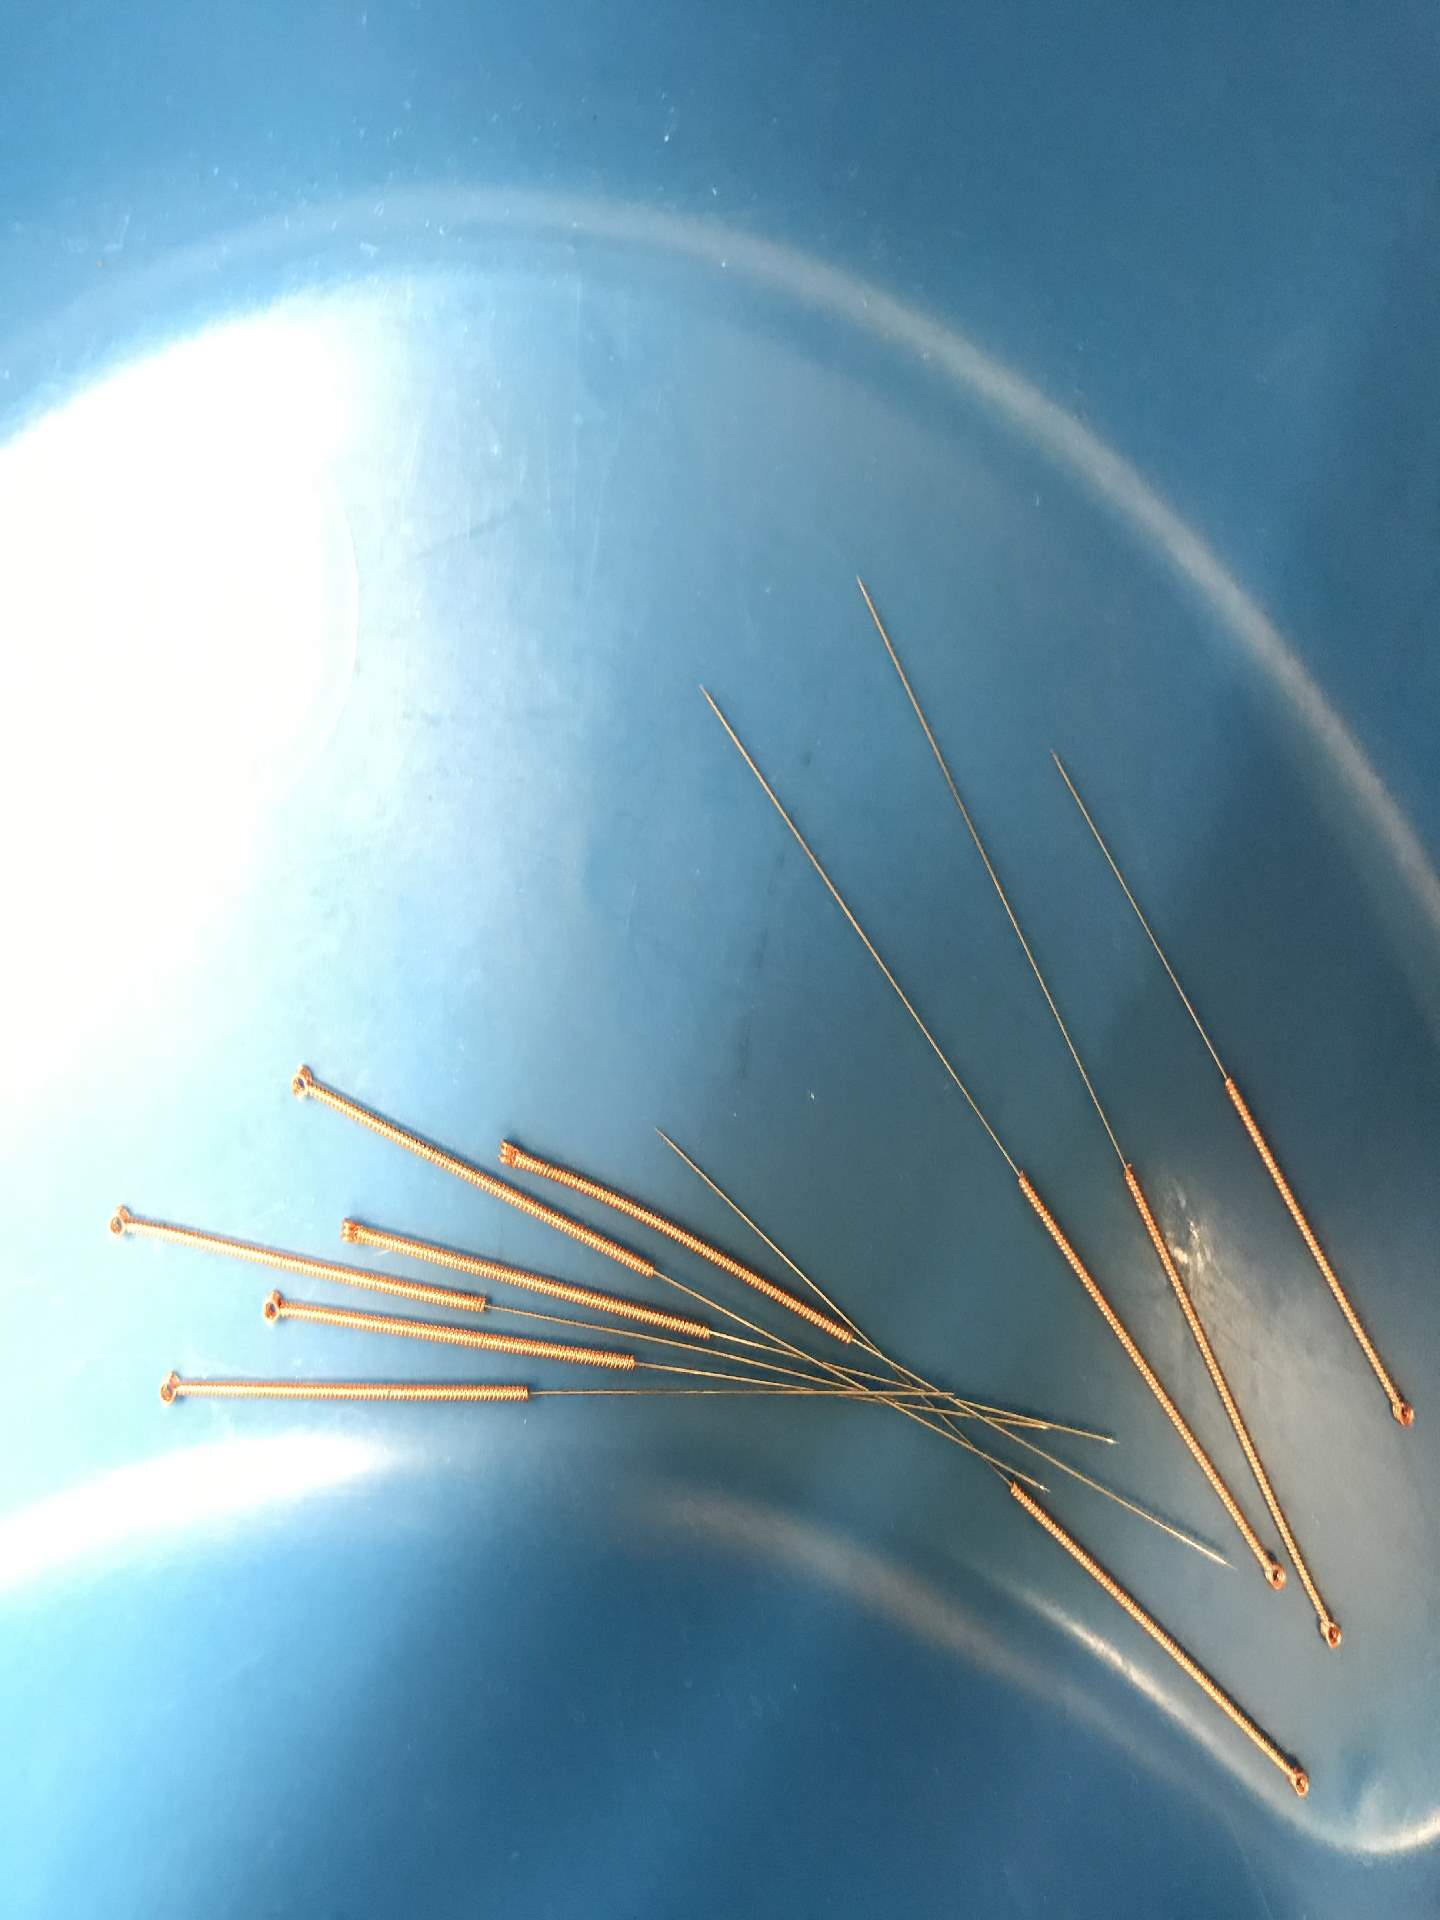needle: (144, 1362, 201, 1420), (275, 1054, 327, 1116), (92, 1194, 147, 1250), (247, 1282, 301, 1336), (325, 1205, 380, 1258), (486, 1129, 538, 1179), (1305, 1606, 1351, 1658), (1378, 1382, 1420, 1438), (1275, 1757, 1322, 1807), (1249, 1554, 1292, 1599)
